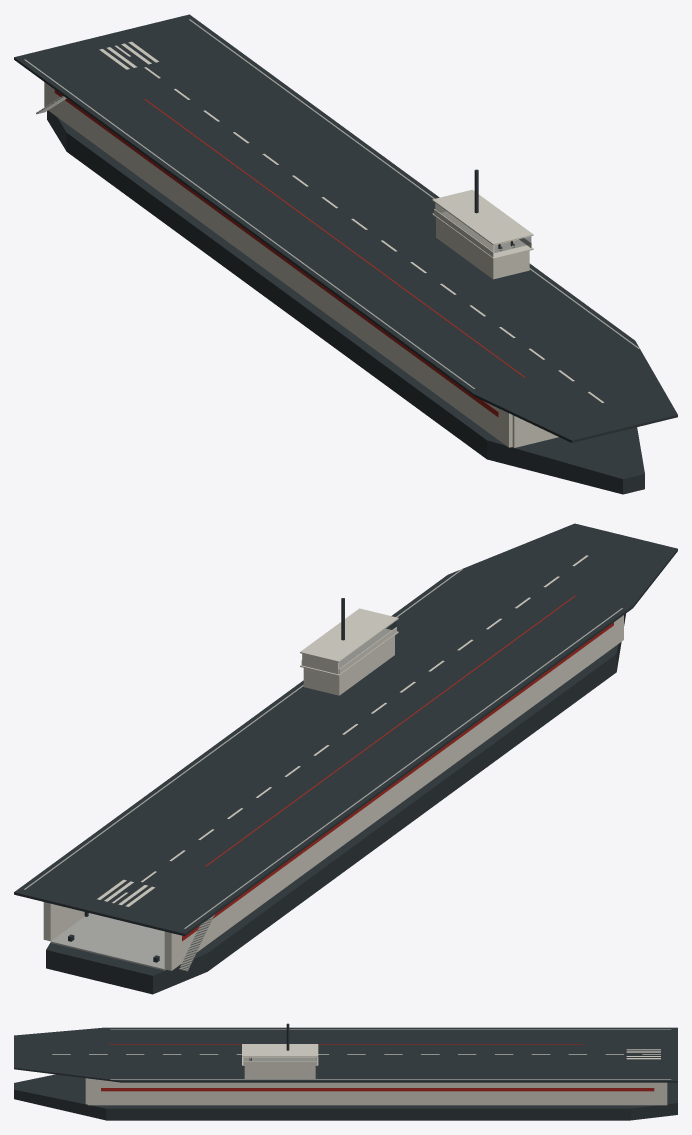
3 renders of one model, top to bottom at view 1: azimuth 30°, elevation 25°; view 2: azimuth 150°, elevation 25°; view 3: azimuth 270°, elevation 25°, orthographic. The views are drawn at different scales.
Parts seen in each view (by area): view 1: carrier-flight-deck-painted, aircraft-carrier-fleet-machine, aircraft-carrier-fleet-armor, aircraft-carrier-fleet-red; view 2: carrier-flight-deck-painted, aircraft-carrier-fleet-armor, aircraft-carrier-fleet-machine, aircraft-carrier-fleet-edge, aircraft-carrier-fleet-red; view 3: carrier-flight-deck-painted, aircraft-carrier-fleet-armor, aircraft-carrier-fleet-machine, aircraft-carrier-fleet-red, aircraft-carrier-fleet-glass.
Boxes of the visible parts, left/top/right/bottom form: carrier-flight-deck-painted: left=14, top=14, right=677, bottom=442; aircraft-carrier-fleet-machine: left=47, top=110, right=644, bottom=494; aircraft-carrier-fleet-armor: left=44, top=82, right=558, bottom=447; aircraft-carrier-fleet-red: left=54, top=90, right=498, bottom=417; carrier-flight-deck-painted: left=14, top=523, right=677, bottom=936; aircraft-carrier-fleet-armor: left=43, top=608, right=623, bottom=970; aircraft-carrier-fleet-machine: left=46, top=598, right=625, bottom=994; aircraft-carrier-fleet-edge: left=50, top=913, right=214, bottom=971; aircraft-carrier-fleet-red: left=182, top=622, right=613, bottom=941; carrier-flight-deck-painted: left=14, top=1027, right=677, bottom=1082; aircraft-carrier-fleet-armor: left=85, top=1044, right=667, bottom=1105; aircraft-carrier-fleet-machine: left=14, top=1023, right=677, bottom=1120; aircraft-carrier-fleet-red: left=101, top=1088, right=654, bottom=1091; aircraft-carrier-fleet-glass: left=243, top=1057, right=316, bottom=1060.
Size of the model in its own units: 253 by 205 by 1326.
